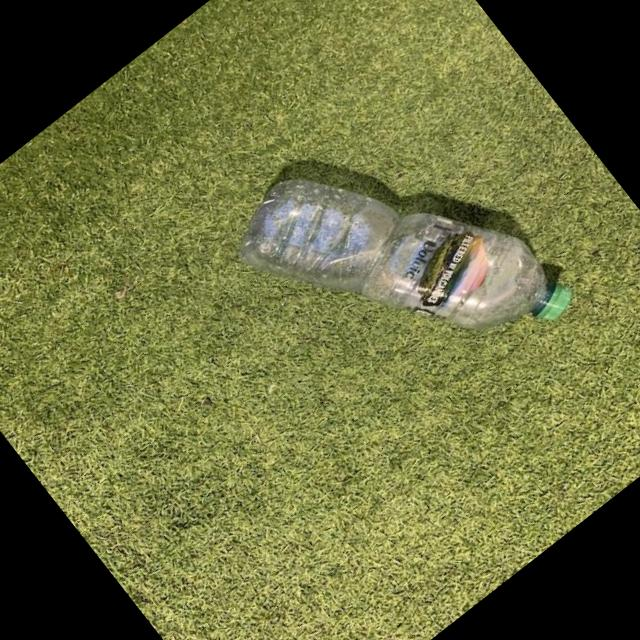BotolPlastik: (217, 78, 583, 450)
